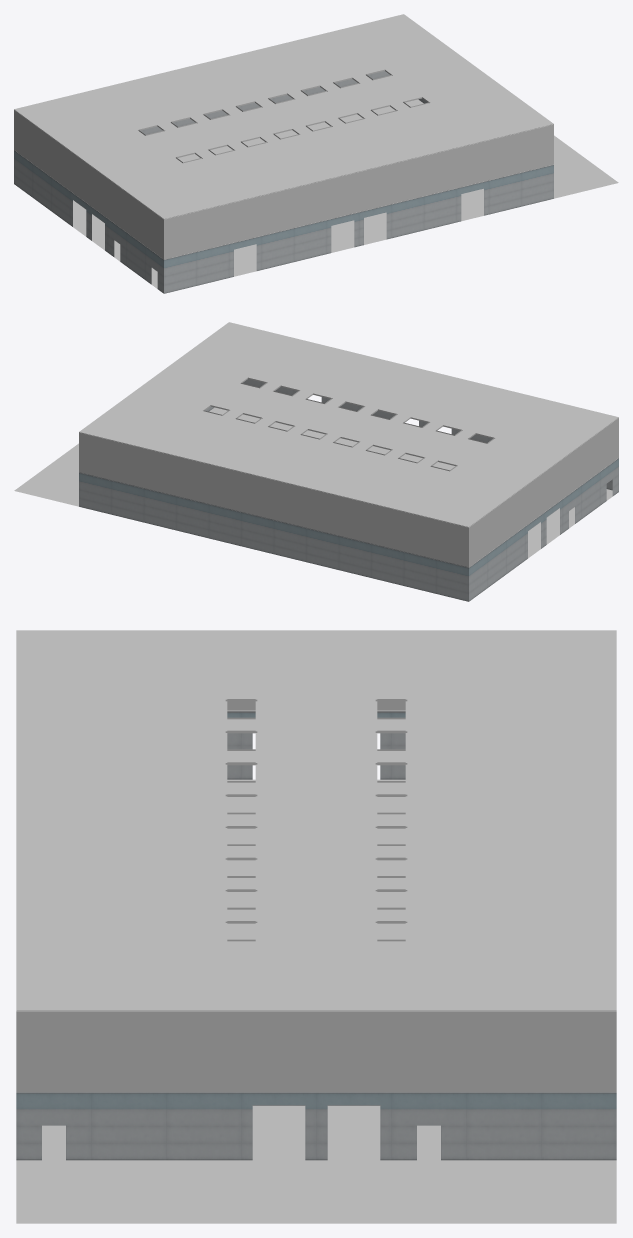
File: Walls_Merged.fbx
3 views of the same model, one above another, from view 1: azimuth 30°, elevation 25°; view 2: azimuth 150°, elevation 25°; view 3: azimuth 270°, elevation 25° (orthographic). The views are drawn at different scales.
Visible parts, largest first — view 1: Walls_Warehouse.001, Walls_Warehouse, Walls_Warehouse.003, Walls_Warehouse.011, Walls_Warehouse.009, Walls_Warehouse.006, Walls_Warehouse.013, Walls_Warehouse.004, Walls_Warehouse.008, Floor_Warehouse.004, Walls_Warehouse.017, Floor_Warehouse.002 (+4 smaller); view 2: Walls_Warehouse.001, Walls_Warehouse, Walls_Warehouse.012, Walls_Warehouse.007, Walls_Warehouse.005, Walls_Warehouse.015, Walls_Warehouse.004, Walls_Warehouse.013, Walls_Warehouse.008, Floor_Warehouse.004, Walls_Warehouse.017, Floor_Warehouse (+1 smaller); view 3: Walls_Warehouse.001, Walls_Warehouse, Floor_Warehouse.004, Walls_Warehouse.014, Walls_Warehouse.002, Walls_Warehouse.016, Walls_Warehouse.010, Floor_Warehouse.003, Floor_Warehouse, Floor_Warehouse.001, Walls_Warehouse.008, Walls_Warehouse.017.
Part boxes in pixels (x1=…): Walls_Warehouse.001: x1=14, y1=14, x2=553, y2=218; Walls_Warehouse: x1=117, y1=57, x2=450, y2=175; Walls_Warehouse.003: x1=359, y1=124, x2=553, y2=212; Walls_Warehouse.011: x1=164, y1=171, x2=358, y2=259; Walls_Warehouse.009: x1=359, y1=165, x2=553, y2=246; Walls_Warehouse.006: x1=164, y1=212, x2=358, y2=293; Walls_Warehouse.013: x1=89, y1=164, x2=164, y2=259; Walls_Warehouse.004: x1=14, y1=109, x2=88, y2=204; Walls_Warehouse.008: x1=14, y1=150, x2=88, y2=238; Floor_Warehouse.004: x1=405, y1=99, x2=618, y2=198; Walls_Warehouse.017: x1=89, y1=205, x2=163, y2=293; Floor_Warehouse.002: x1=210, y1=130, x2=386, y2=249; Walls_Warehouse.001: x1=79, y1=322, x2=618, y2=526; Walls_Warehouse: x1=182, y1=365, x2=515, y2=483; Walls_Warehouse.012: x1=79, y1=432, x2=273, y2=519; Walls_Warehouse.007: x1=274, y1=479, x2=468, y2=567; Walls_Warehouse.005: x1=79, y1=472, x2=273, y2=554; Walls_Warehouse.015: x1=274, y1=520, x2=468, y2=601; Walls_Warehouse.004: x1=468, y1=472, x2=543, y2=567; Walls_Warehouse.013: x1=544, y1=417, x2=618, y2=512; Walls_Warehouse.008: x1=469, y1=513, x2=543, y2=601; Floor_Warehouse.004: x1=14, y1=407, x2=227, y2=506; Walls_Warehouse.017: x1=544, y1=458, x2=618, y2=546; Floor_Warehouse: x1=528, y1=489, x2=612, y2=558; Walls_Warehouse.001: x1=16, y1=630, x2=616, y2=1010; Walls_Warehouse: x1=166, y1=693, x2=466, y2=947; Floor_Warehouse.004: x1=16, y1=1135, x2=616, y2=1223; Walls_Warehouse.014: x1=16, y1=1010, x2=316, y2=1092; Walls_Warehouse.002: x1=316, y1=1010, x2=616, y2=1092; Walls_Warehouse.016: x1=16, y1=1092, x2=316, y2=1160; Walls_Warehouse.010: x1=316, y1=1092, x2=616, y2=1160; Floor_Warehouse.003: x1=42, y1=1106, x2=440, y2=1134; Floor_Warehouse: x1=227, y1=779, x2=405, y2=868; Floor_Warehouse.001: x1=227, y1=868, x2=405, y2=939; Walls_Warehouse.008: x1=377, y1=711, x2=405, y2=779; Walls_Warehouse.017: x1=227, y1=711, x2=255, y2=779.
Size of the model in its own units: 7000 by 1109 by 4000.
